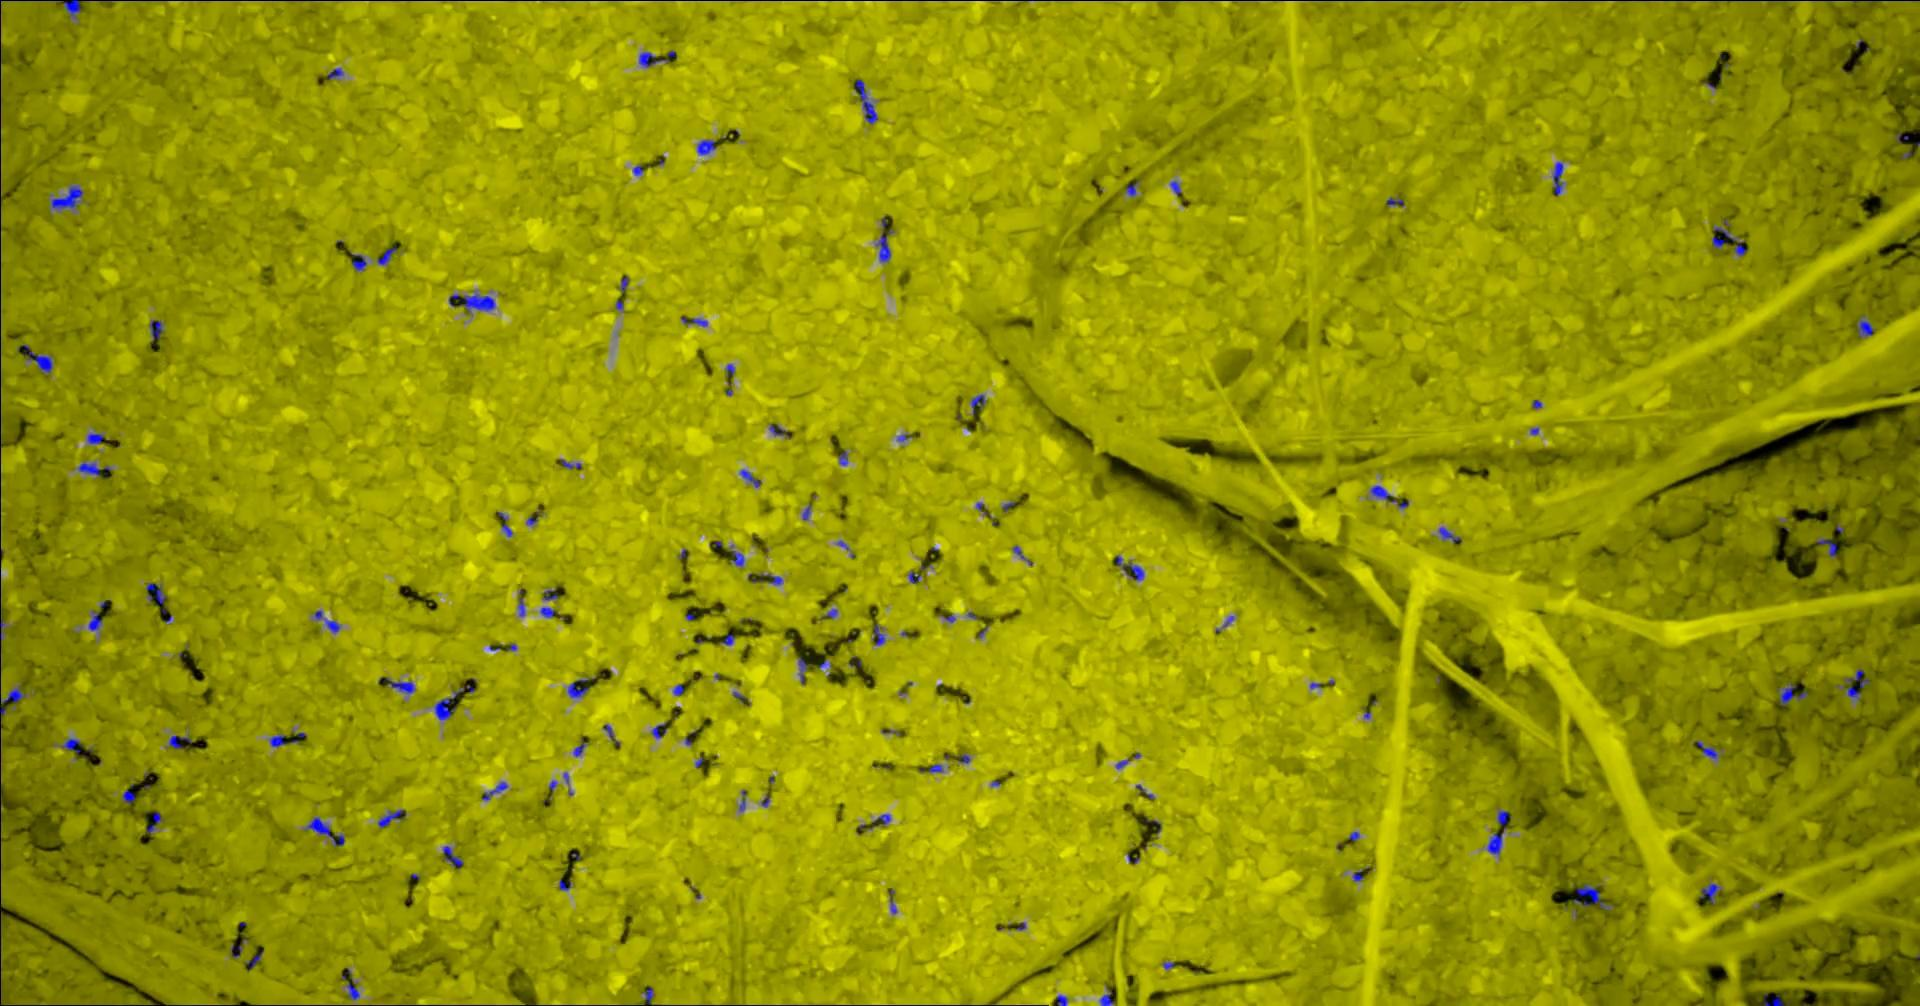ant: (434, 683, 474, 719), (1710, 218, 1746, 255), (303, 815, 344, 846), (17, 344, 52, 373), (855, 79, 877, 123), (1573, 883, 1608, 909), (448, 293, 495, 312), (1370, 485, 1408, 508), (0, 687, 24, 721), (875, 215, 893, 260), (50, 185, 83, 208), (1845, 668, 1869, 699), (1115, 555, 1143, 580), (1777, 683, 1807, 705), (637, 50, 674, 67), (312, 610, 339, 633), (378, 677, 415, 694), (58, 0, 86, 18), (269, 732, 305, 746), (377, 809, 405, 827), (442, 845, 463, 868), (481, 781, 507, 800), (145, 582, 165, 605), (77, 461, 110, 475), (145, 810, 163, 833), (1552, 161, 1563, 196), (377, 246, 397, 265), (1816, 539, 1836, 558), (1700, 883, 1719, 903), (1487, 831, 1503, 854), (1437, 527, 1462, 542), (750, 573, 782, 584), (739, 469, 759, 486), (568, 680, 588, 697), (1697, 741, 1717, 758), (1857, 315, 1873, 337), (497, 511, 510, 536), (61, 738, 83, 753), (149, 319, 163, 340), (697, 138, 716, 154), (168, 735, 190, 748), (970, 394, 984, 414), (88, 610, 102, 630), (725, 363, 734, 395), (681, 316, 707, 326), (797, 657, 808, 683), (770, 423, 789, 437), (871, 813, 890, 827), (347, 978, 359, 998), (350, 254, 366, 271), (651, 721, 667, 738), (872, 622, 884, 644), (573, 737, 585, 756), (1497, 810, 1510, 829), (1763, 993, 1783, 1005), (1098, 991, 1112, 1005), (1125, 180, 1138, 196), (643, 986, 653, 1005), (731, 550, 743, 567), (919, 763, 943, 771), (0, 605, 4, 652), (328, 67, 343, 79), (86, 433, 103, 443), (122, 789, 135, 801), (1385, 197, 1403, 206), (838, 448, 847, 465), (543, 589, 557, 600), (540, 607, 554, 617), (1057, 995, 1067, 1005)
